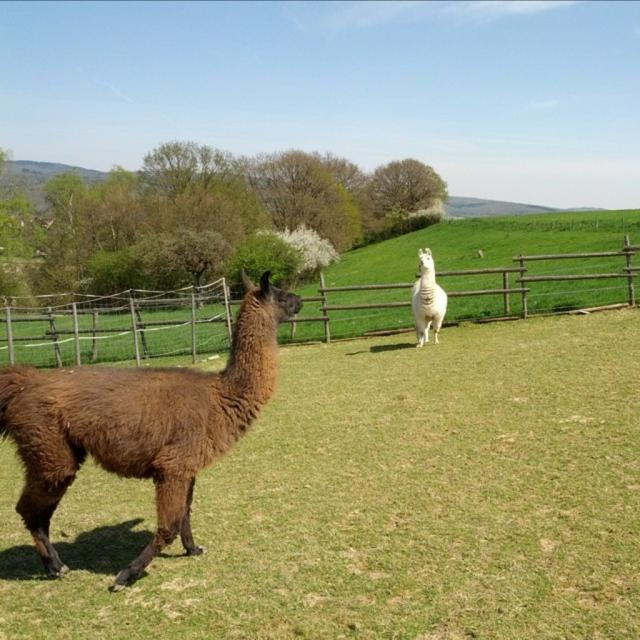alpaca: (0, 266, 302, 587), (408, 244, 448, 346)
